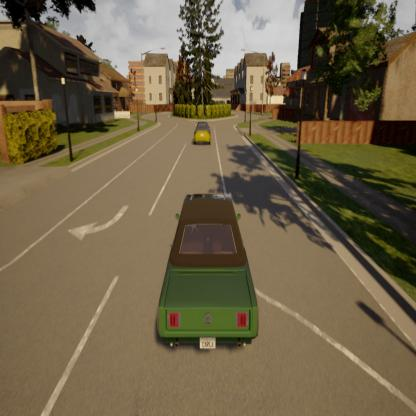Cars: (158, 191, 260, 353), (192, 118, 212, 147)
